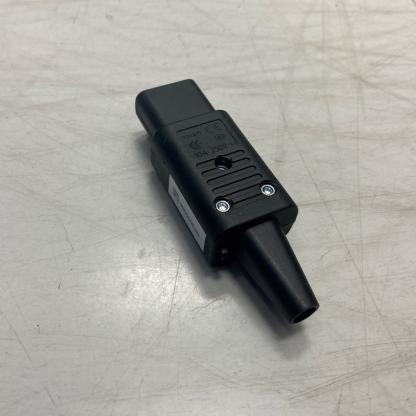SP0000006: (110, 39, 359, 365)
